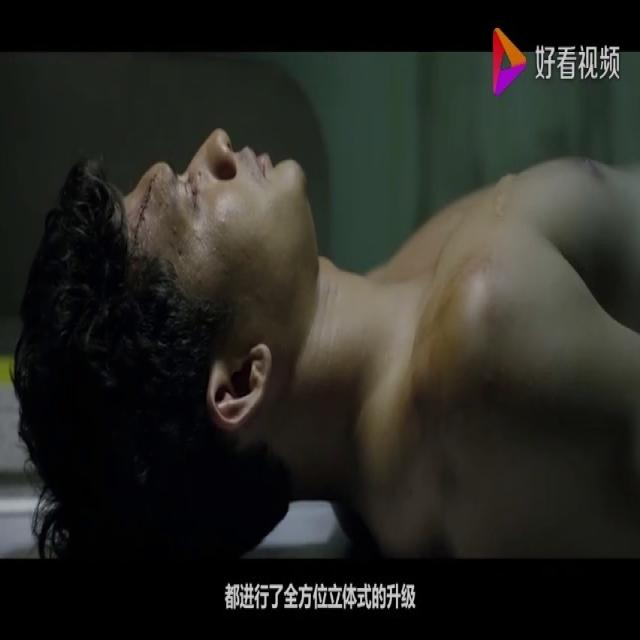non-fight: (6, 121, 640, 561)
